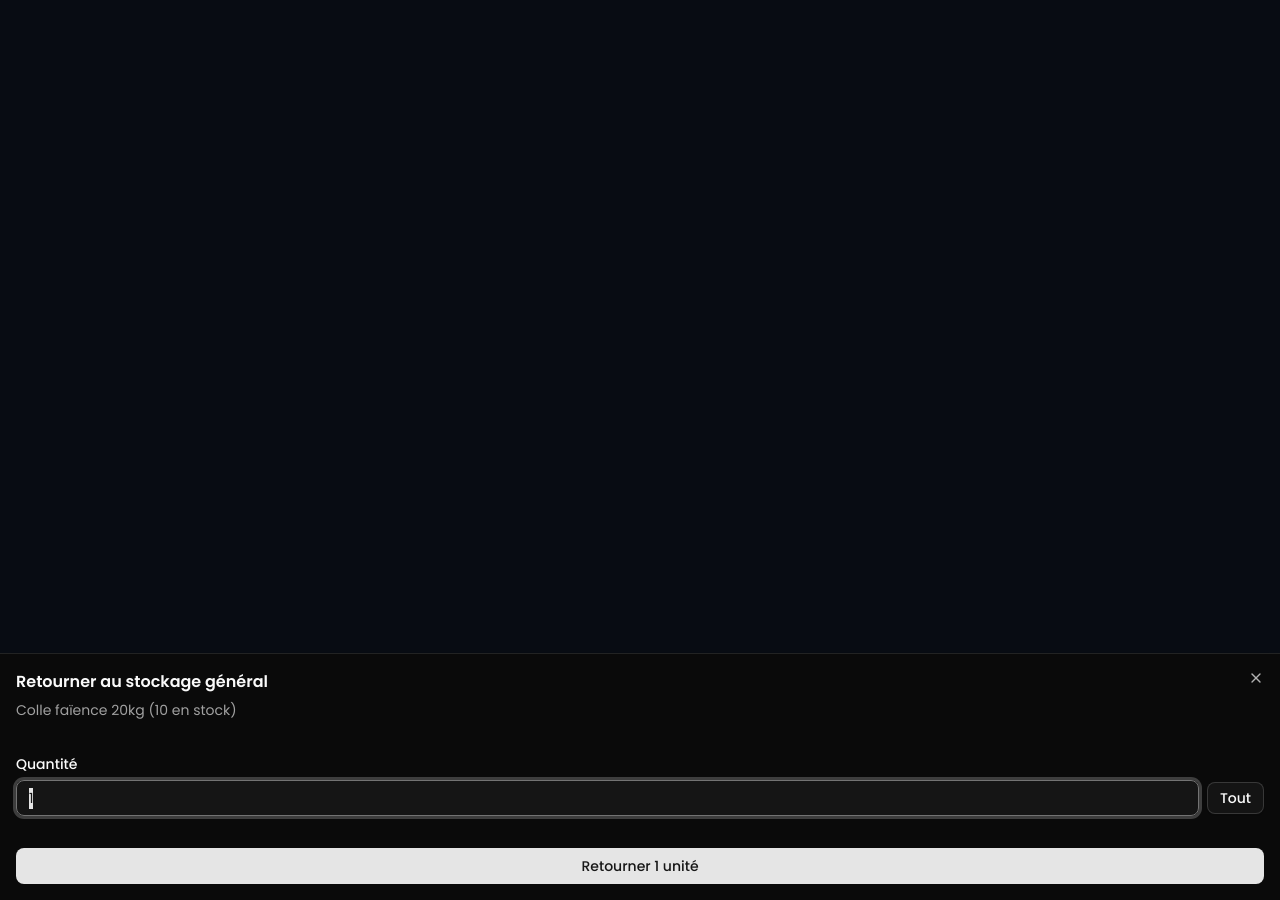
Test: TransferSheet › shows "Tout" button that sets max quantity
Click the button "Tout" at (1235, 798), box [1207,782,1264,814]
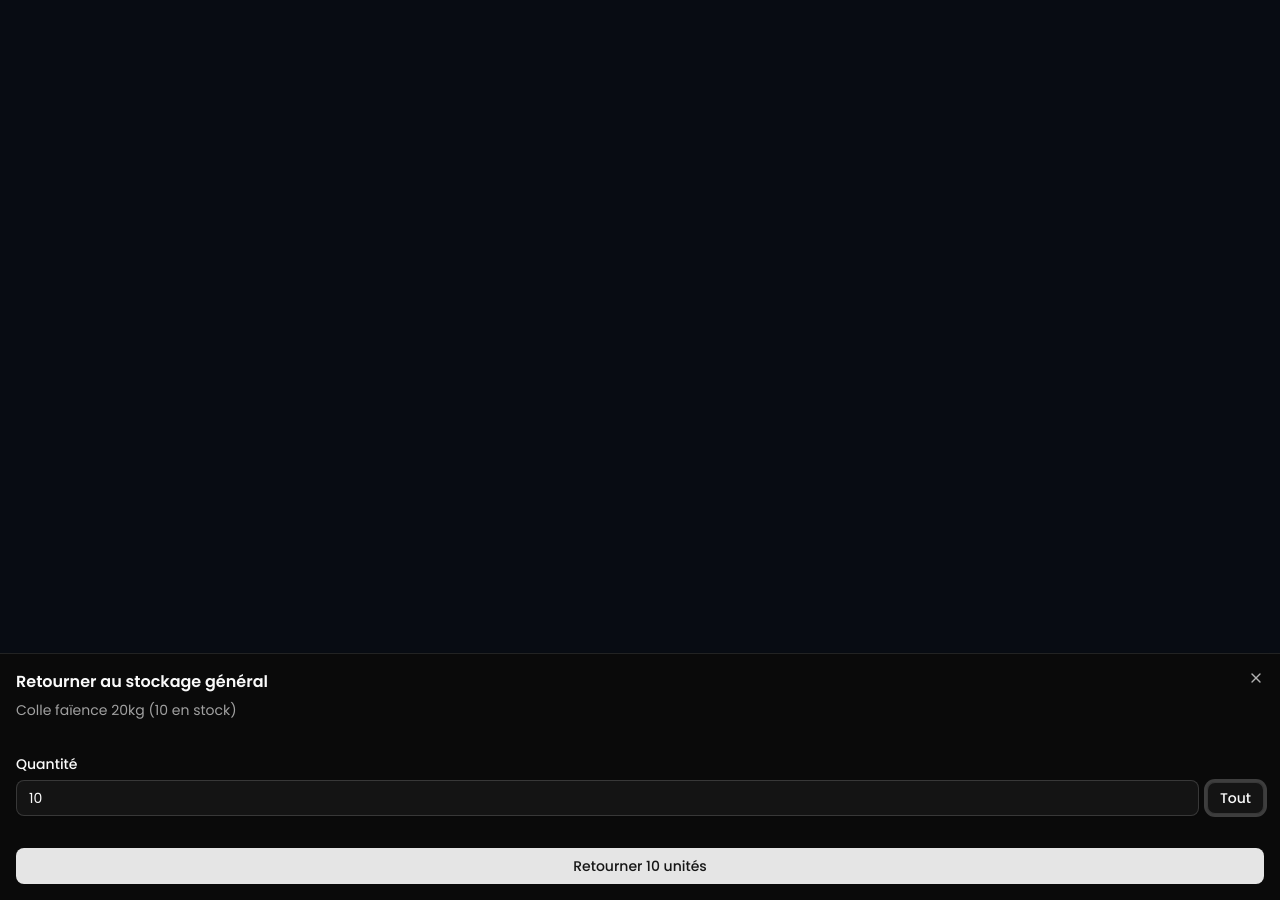
Now the field labelled "Quantité" holds "10", box [16,780,1199,816]
